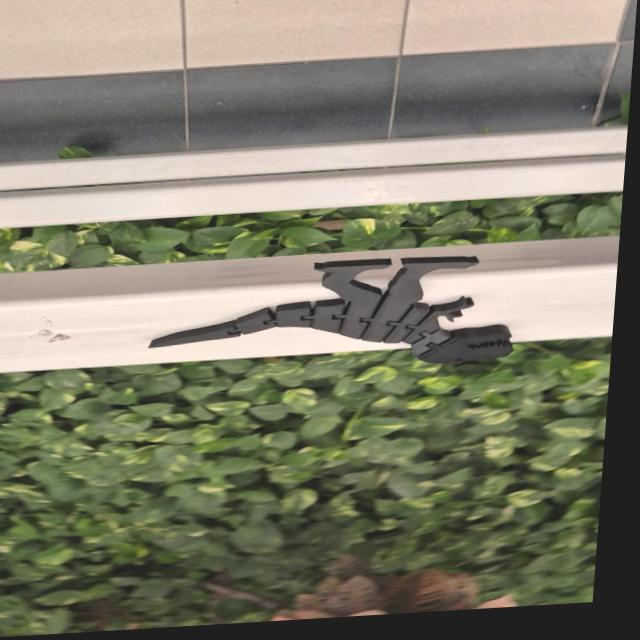dino: (144, 249, 523, 383)
